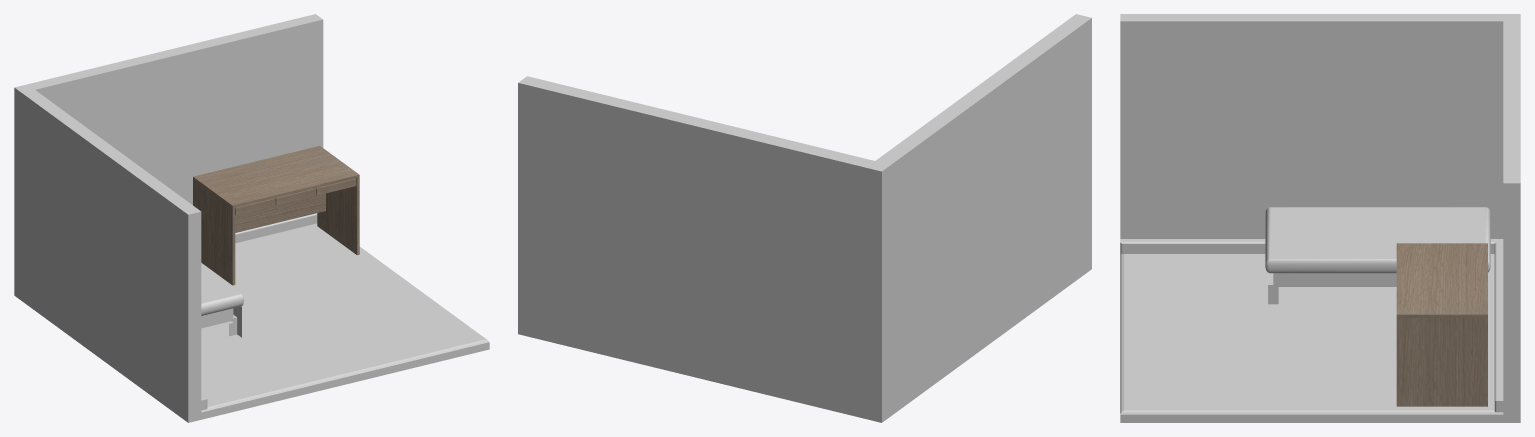
3 renders of one model, left to right at view 1: azimuth 30°, elevation 25°; view 2: azimuth 150°, elevation 25°; view 3: azimuth 270°, elevation 25°, orthographic. The views are drawn at different scales.
Parts seen in each view (by area): view 1: Cube, Cube_0, Cube.002, Cube.001_0, Cube.003, Plane, Plane.001; view 2: Cube; view 3: Cube, Plane, Cube.001_0, Cube_0, Plane.001.
Boxes of the visible parts, x1,y1,x2,y2 form: Cube: [14, 14, 489, 422]; Cube_0: [193, 146, 359, 208]; Cube.002: [193, 180, 235, 285]; Cube.001_0: [317, 177, 359, 254]; Cube.003: [235, 193, 325, 232]; Plane: [201, 265, 243, 315]; Plane.001: [201, 306, 241, 337]; Cube: [518, 14, 1091, 422]; Cube: [1120, 14, 1520, 422]; Plane: [1265, 207, 1490, 273]; Cube.001_0: [1396, 317, 1487, 406]; Cube_0: [1396, 243, 1487, 317]; Plane.001: [1268, 273, 1396, 304].
Size of the model in its own units: 46 by 30.38 by 46.
Materials: 1 (1 with a texture image).
